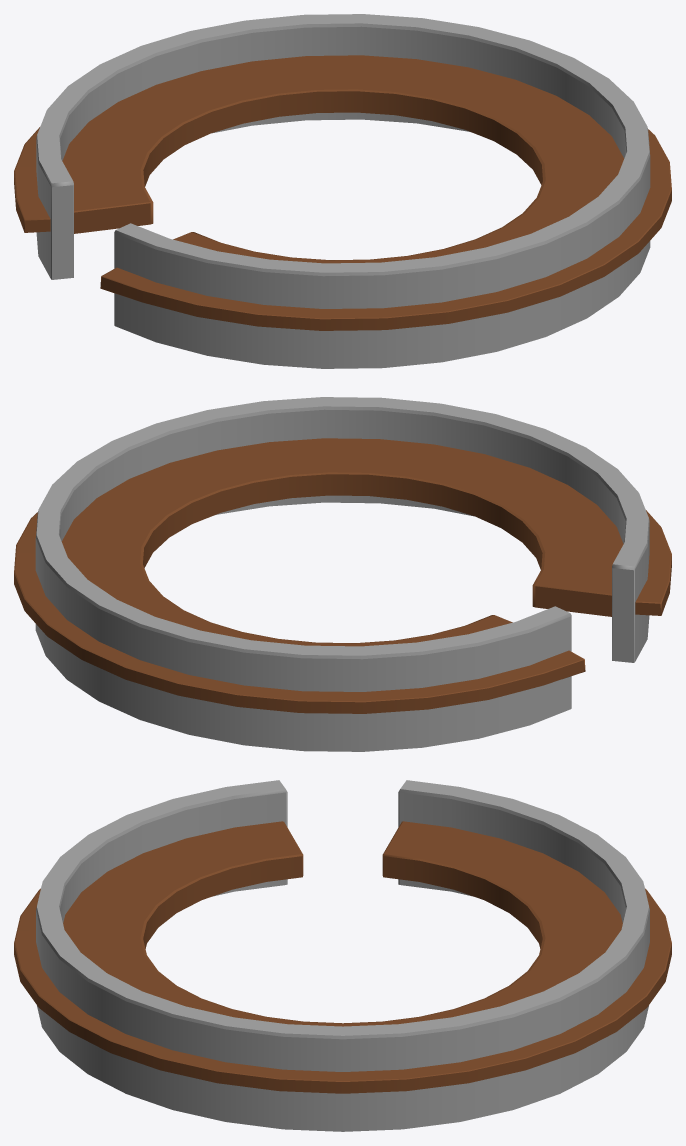
File: Desk.fbx
3 views of the same model, one above another, from view 1: azimuth 30°, elevation 25°; view 2: azimuth 150°, elevation 25°; view 3: azimuth 270°, elevation 25° (orthographic).
Visible parts, largest first — view 1: Desk; view 2: Desk; view 3: Desk.
Boxes of the visible parts, x1,y1,x2,y2 form: Desk: [14, 14, 671, 368]; Desk: [14, 397, 671, 751]; Desk: [14, 780, 671, 1131].
Size of the model in its own units: 921 by 149 by 929.
